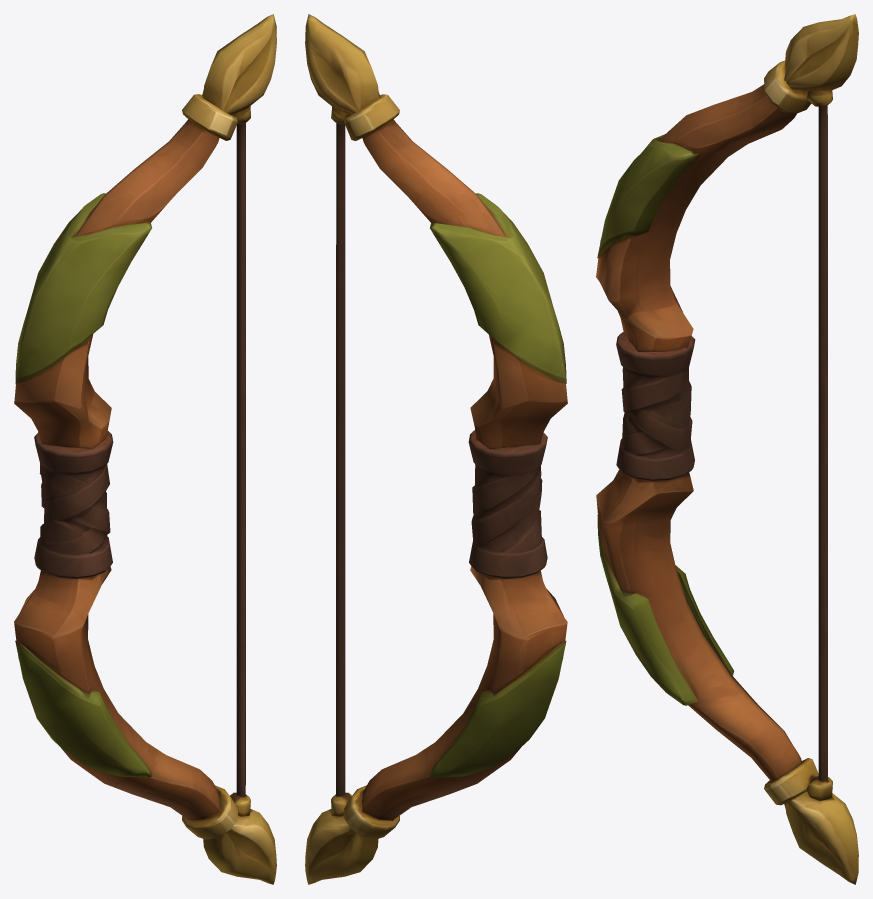
File: elf-rogue-bow-v1.fbx
The picture shows the model from 3 angles, left to right: view 1: azimuth 30°, elevation 25°; view 2: azimuth 150°, elevation 25°; view 3: azimuth 330°, elevation 25°; orthographic projection.
Visible parts, largest first — view 1: tripo_1ea6529b_ea72_4a37_8959_bc719855d624; view 2: tripo_1ea6529b_ea72_4a37_8959_bc719855d624; view 3: tripo_1ea6529b_ea72_4a37_8959_bc719855d624.
Part boxes in pixels (x1,y1,x2,y2): tripo_1ea6529b_ea72_4a37_8959_bc719855d624: (14,14,276,884); tripo_1ea6529b_ea72_4a37_8959_bc719855d624: (305,14,567,884); tripo_1ea6529b_ea72_4a37_8959_bc719855d624: (596,14,858,884).
Bounding box in the file's own units: 0.3149 × 0.9995 × 0.1089.
Materials: 1 (1 with a texture image).
